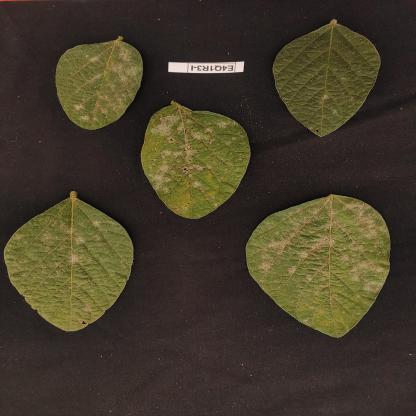label: (164, 58, 250, 76)
leaflets: (247, 194, 399, 348), (1, 189, 137, 343), (261, 13, 389, 142), (140, 99, 254, 222), (47, 26, 148, 134)
